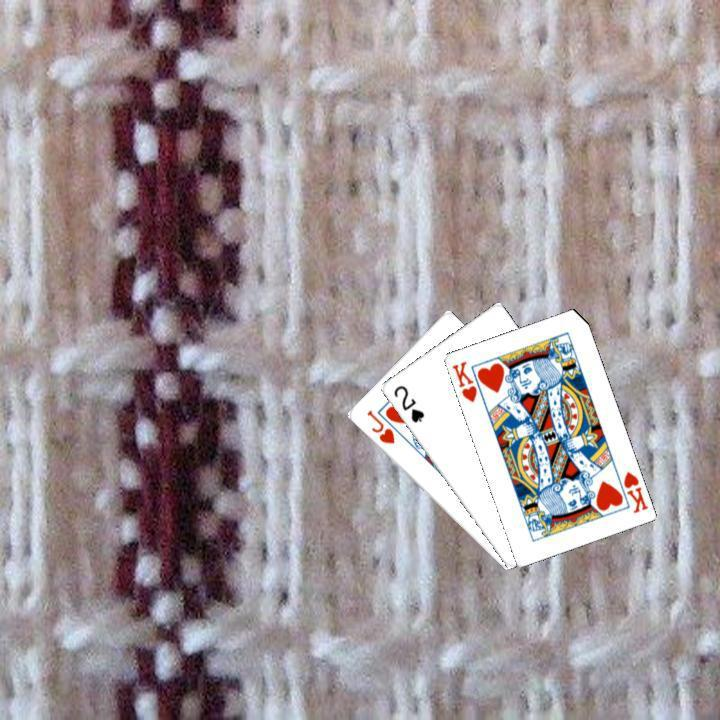2: (389, 381, 426, 425)
J: (362, 406, 396, 446)
K: (447, 357, 479, 404), (618, 467, 649, 515)
